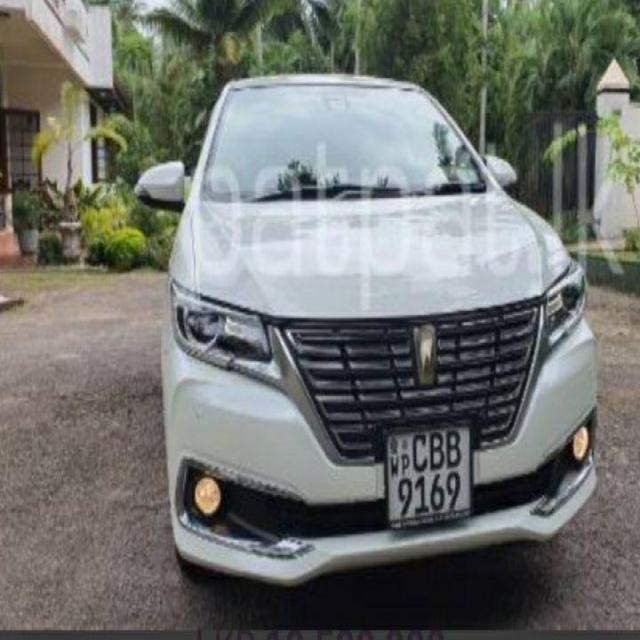license-plate: (384, 421, 475, 519)
